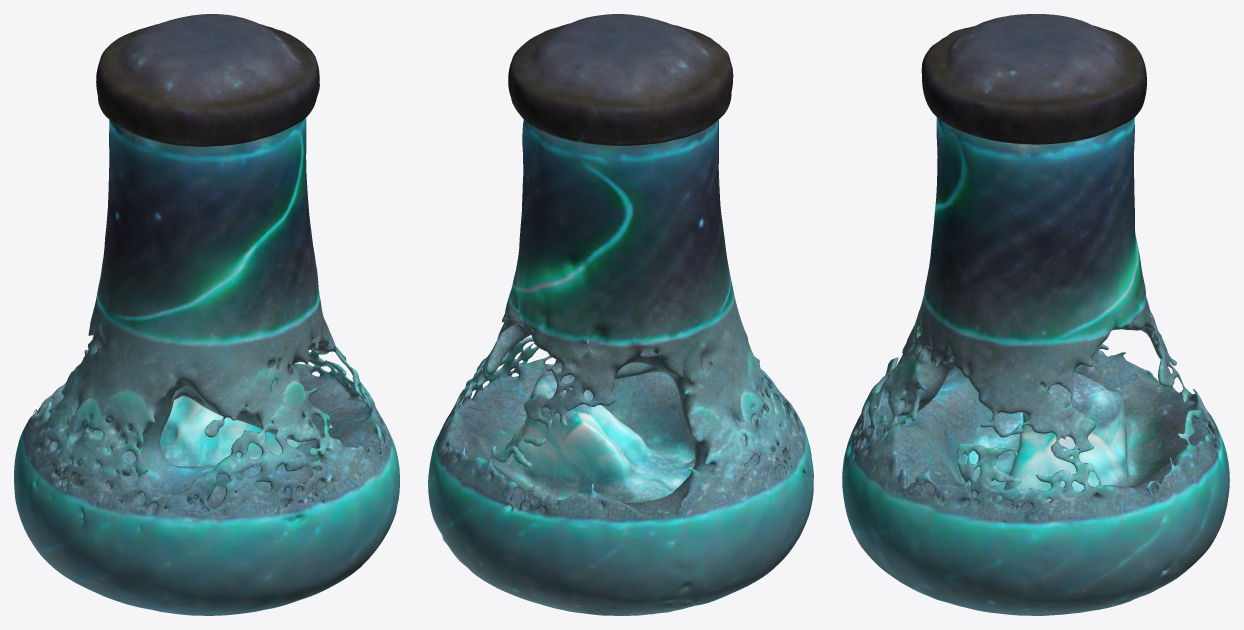
File: water_bottle.glb
3 renders of one model, left to right at view 1: azimuth 30°, elevation 25°; view 2: azimuth 150°, elevation 25°; view 3: azimuth 270°, elevation 25°, orthographic.
Visible parts, largest first — view 1: high_poly; view 2: high_poly; view 3: high_poly.
Boxes of the visible parts, x1,y1,x2,y2 form: high_poly: (14, 14, 399, 615); high_poly: (428, 14, 813, 615); high_poly: (842, 14, 1229, 615).
Bounding box in the file's own units: 0.6345 × 1 × 0.6338.
1 material, 1 textured.
